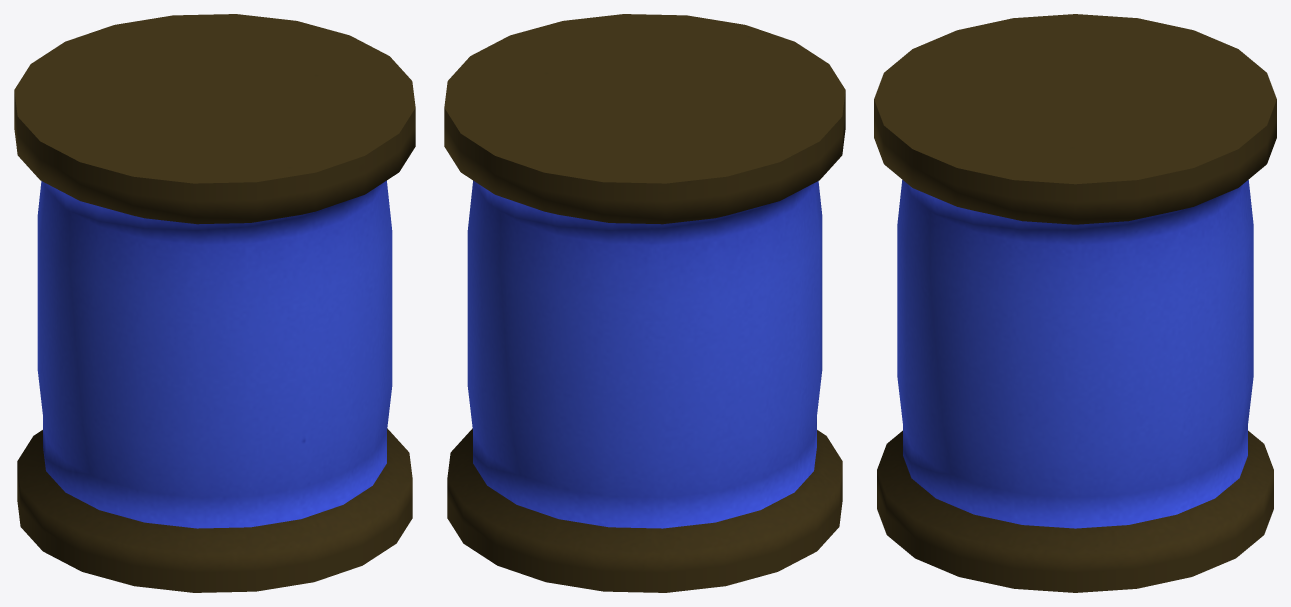
File: spool.obj
3 views of the same model, side by side, from view 1: azimuth 30°, elevation 25°; view 2: azimuth 150°, elevation 25°; view 3: azimuth 270°, elevation 25° (orthographic).
Parts seen in each view (by area): view 1: pCylinder1; view 2: pCylinder1; view 3: pCylinder1.
Boxes of the visible parts, left/top/right/bottom form: pCylinder1: left=14, top=14, right=415, bottom=592; pCylinder1: left=444, top=14, right=845, bottom=592; pCylinder1: left=874, top=14, right=1276, bottom=592.
Bounding box in the file's own units: 2.26 × 2.54 × 2.26.
